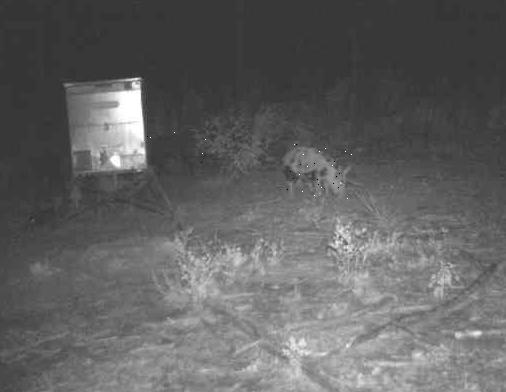Hog: (280, 143, 356, 201), (147, 130, 206, 179)
